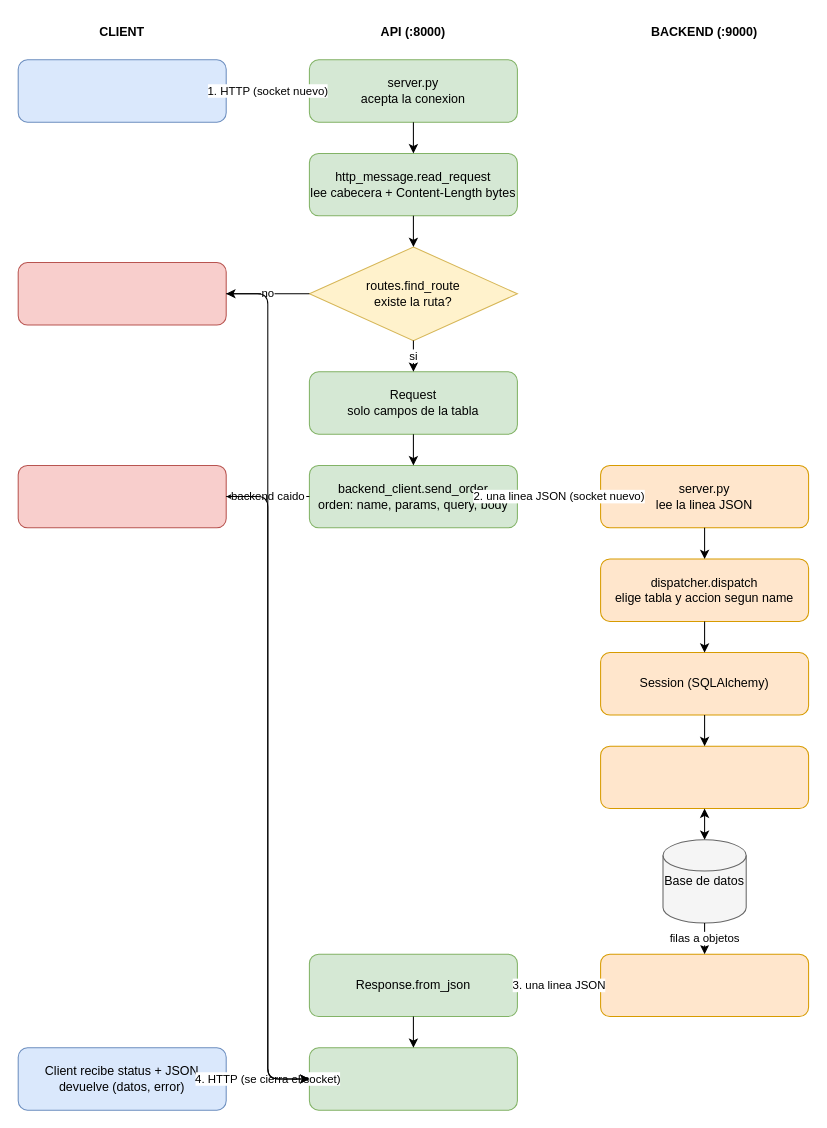
This 827x1128 diagram has some shape labels left out. Each missing label, with the centre of its shape:
"api_client.py requests + JSON" belongs at (x=121, y=90).
"http_message.build_response HTTP + Content-Length" belongs at (x=412, y=1078).
"Repositorio _validate + save / get / get_all / update / delete" belongs at (x=704, y=777).
"Response 404" belongs at (x=121, y=293).
"Response 502 (backend caido)" belongs at (x=121, y=496).
"ResponseBuilder objeto a dict (sin password_hash) + status" belongs at (x=704, y=985).
